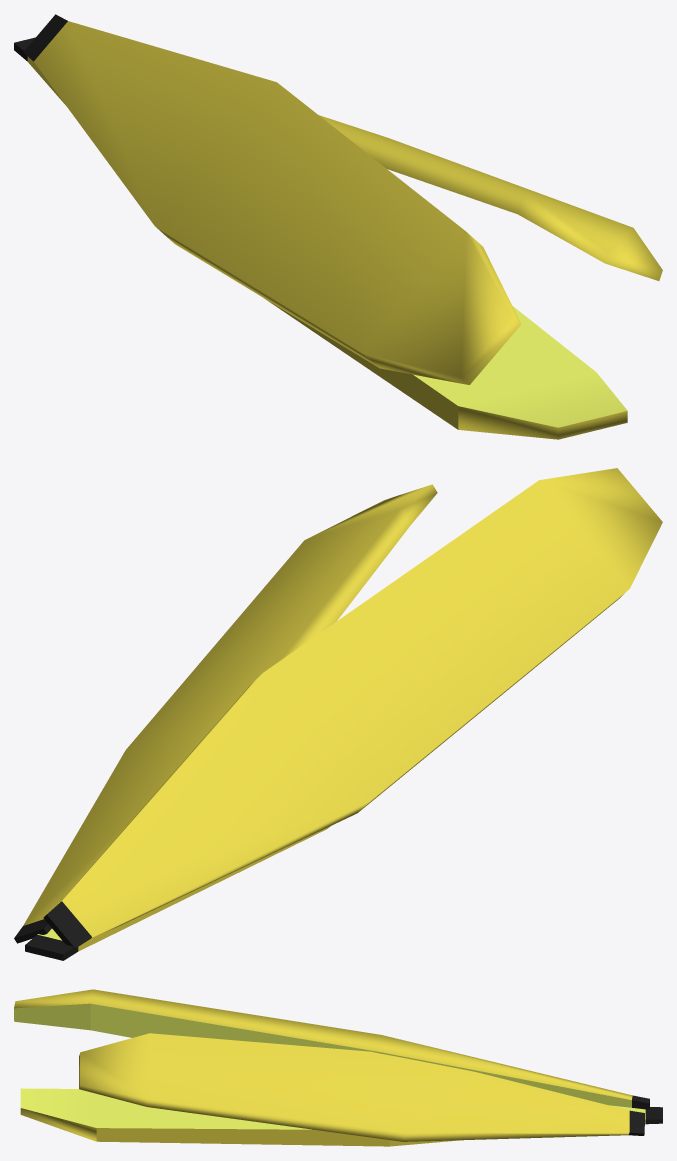
Rendered from banana-peel.fbx.
3 renders of one model, top to bottom at view 1: azimuth 30°, elevation 25°; view 2: azimuth 150°, elevation 25°; view 3: azimuth 270°, elevation 25°, orthographic. The views are drawn at different scales.
Parts seen in each view (by area): view 1: Cube.003, Cube.002, Cube.006, Cube, Cube.004; view 2: Cube.003, Cube.006, Cube.004, Cube, Cube.001; view 3: Cube.006, Cube.003, Cube.005, Cube.002, Cube, Cube.007, Cube.001.
Part boxes in pixels (bbox=[...]): Cube.003: bbox=[34, 21, 521, 384]; Cube.002: bbox=[413, 306, 627, 427]; Cube.006: bbox=[319, 115, 662, 280]; Cube: bbox=[27, 56, 627, 439]; Cube.004: bbox=[23, 14, 67, 61]; Cube.003: bbox=[60, 468, 662, 938]; Cube.006: bbox=[23, 484, 437, 925]; Cube.004: bbox=[43, 901, 91, 948]; Cube: bbox=[78, 826, 330, 951]; Cube.001: bbox=[25, 934, 78, 960]; Cube.006: bbox=[79, 1033, 629, 1141]; Cube.003: bbox=[14, 989, 632, 1099]; Cube.005: bbox=[14, 1003, 631, 1107]; Cube.002: bbox=[20, 1088, 645, 1129]; Cube: bbox=[20, 1108, 645, 1146]; Cube.007: bbox=[629, 1110, 644, 1135]; Cube.001: bbox=[645, 1107, 662, 1124].
Bounding box in the file's own units: 4.5 × 2.71 × 13.73.
